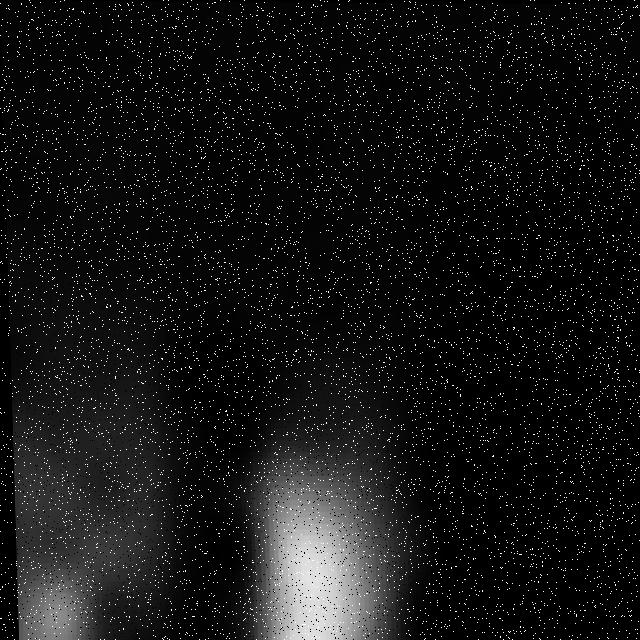person: (7, 274, 190, 640), (227, 340, 434, 640)
